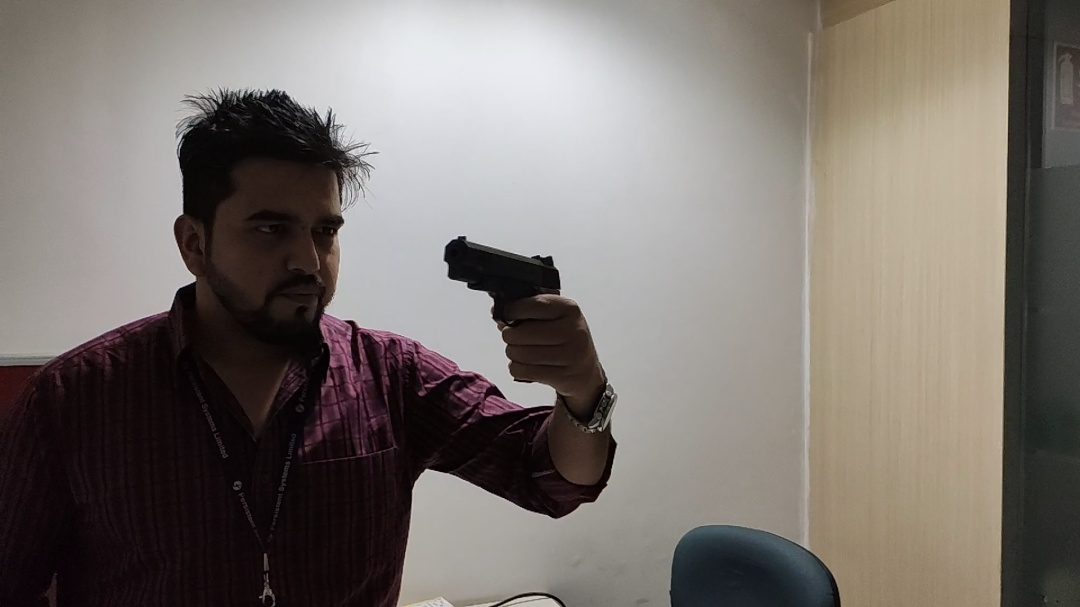gun: (443, 231, 575, 392)
